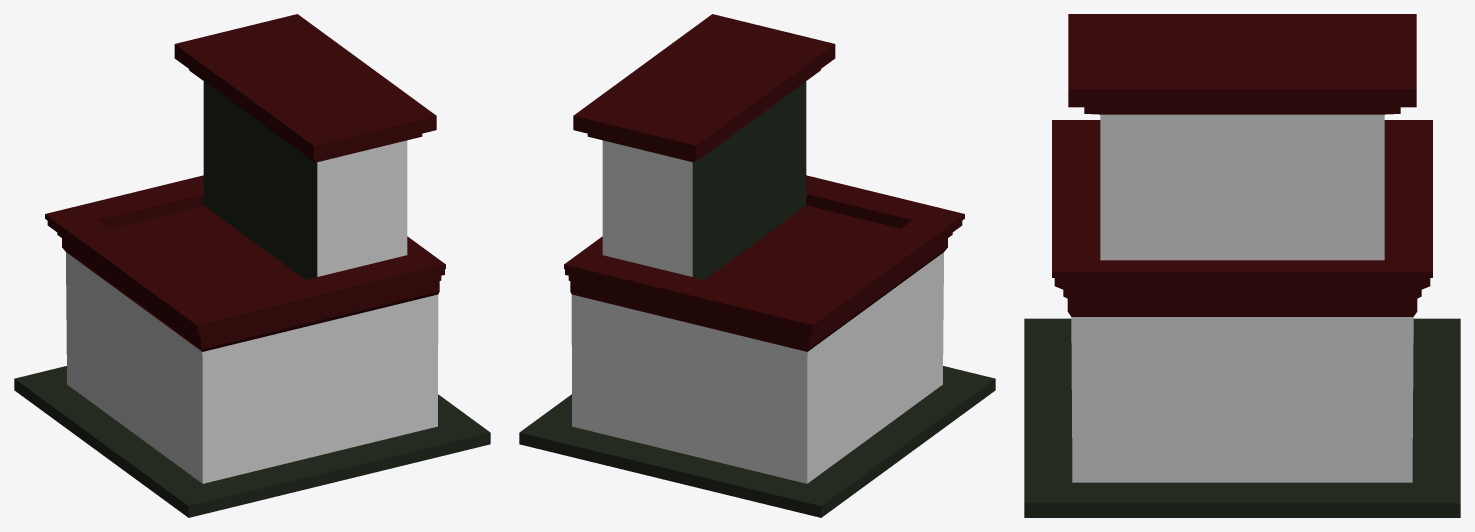
Rendered from Edificio3_x1.FBX.
3 renders of one model, left to right at view 1: azimuth 30°, elevation 25°; view 2: azimuth 150°, elevation 25°; view 3: azimuth 270°, elevation 25°, orthographic. The views are drawn at different scales.
Visible parts, largest first — view 1: Edificio3_x1; view 2: Edificio3_x1; view 3: Edificio3_x1.
Boxes of the visible parts, x1=… form: Edificio3_x1: x1=14, y1=14, x2=490, y2=517; Edificio3_x1: x1=519, y1=14, x2=995, y2=517; Edificio3_x1: x1=1024, y1=14, x2=1460, y2=517.
Bounding box in the file's own units: 417 × 428 × 417.
